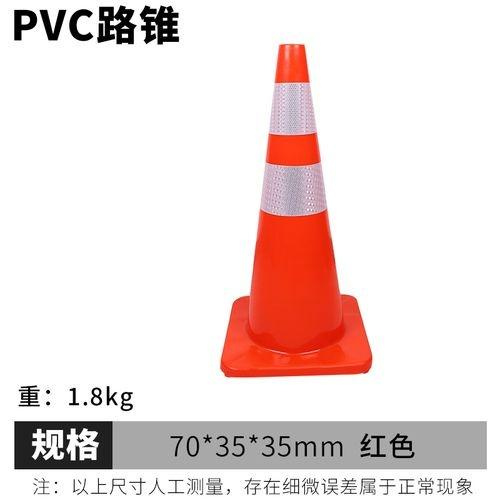cone_barrel: (236, 47, 356, 365)
